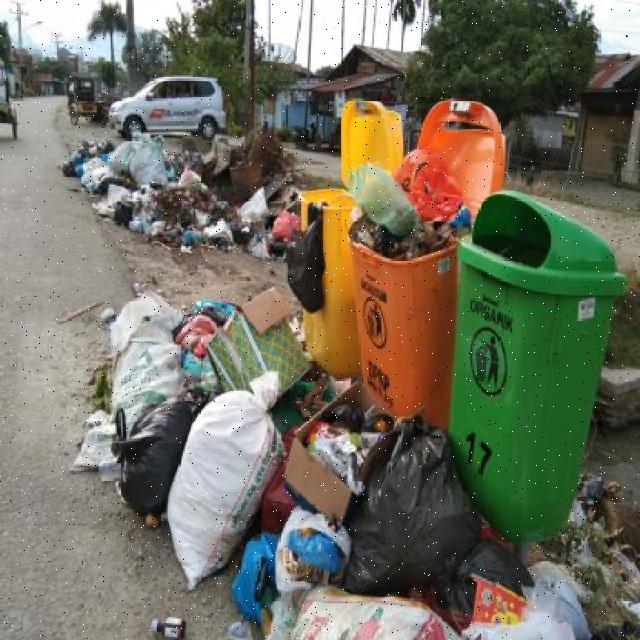garbage container: (442, 182, 629, 549), (349, 208, 448, 430), (292, 182, 365, 387)
